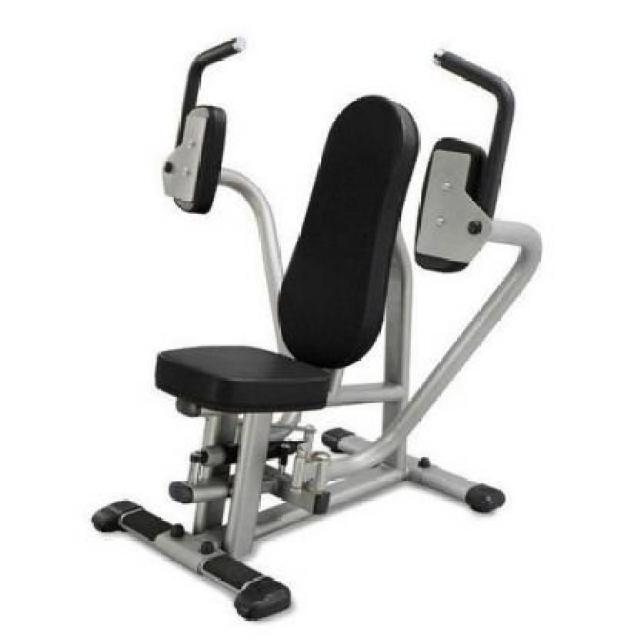Chest Press machine: (80, 21, 551, 624)
